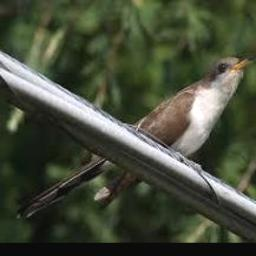Cuckoo: (18, 57, 256, 217)
